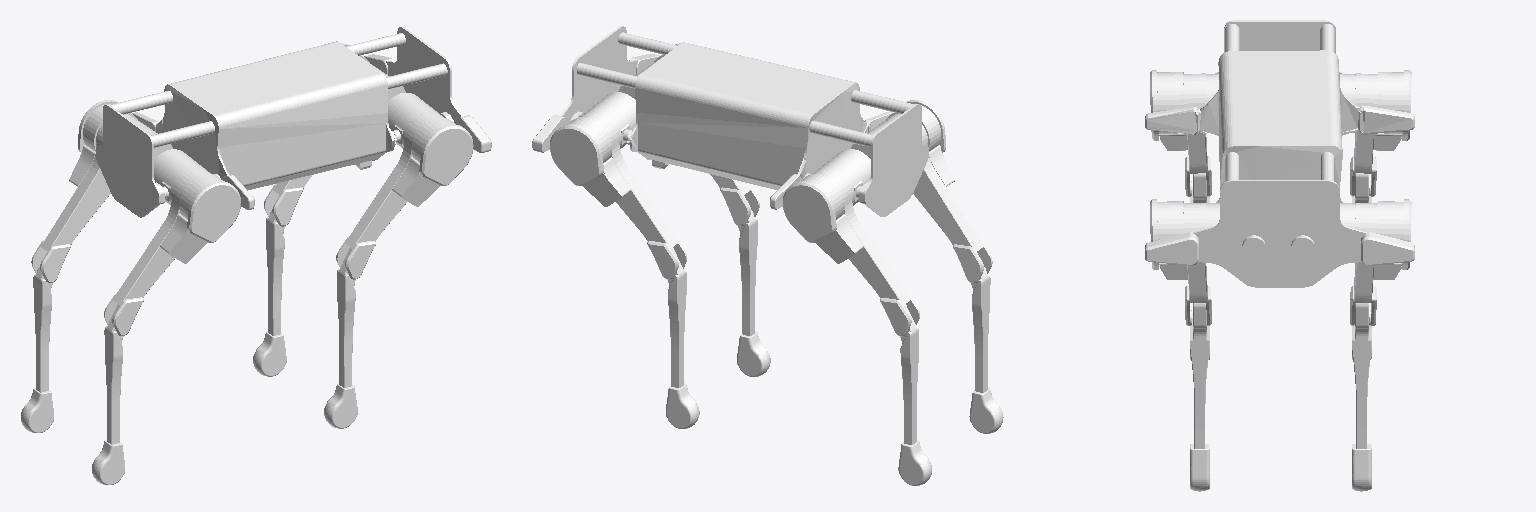
robot.urdf — plane:
<?xml version="1.0" ?>
<robot name="plane">
  <link name="chassis">
  <contact>
      <lateral_friction value="1"/>
  </contact>
    <inertial>
      <origin rpy="0 0 0" xyz="0 0 0"/>
       <mass value="13.715"/>
       <inertia ixx="0.22" ixy="0" ixz="0" iyy="0.431" iyz="0" izz="0.565"/>
    </inertial>
    <visual>
      <origin rpy="0 0 0" xyz=" 0  0 0"/>
      <geometry>
        <mesh filename="chassis_zup.obj" scale="1 1 1"/>
      </geometry>
       <material name="white">
        <color rgba="1 1 1 1"/>
      </material>
    </visual>
    <collision>
      <origin rpy="0 0 0" xyz="0 0 0"/>
      <geometry>
        <mesh filename="chassis_vhacd_mod_zup.obj" scale="1 1 1"/>
      </geometry>
    </collision>
  </link>
  <link name="FR_hip_motor">
    <contact>
      <lateral_friction value="1"/>
    </contact>
    <inertial>
       <origin rpy="0 0 0" xyz="0.02 0 0"/>
       <mass value="1.095"/>
       <inertia ixx="0.002" ixy="0" ixz="0" iyy=".002" iyz="0" izz=".001"/>
    </inertial>

    <visual>
      <origin rpy="0 0 0" xyz="0 0 0"/>
      <geometry>
        <mesh filename="hip_motor_mirror.obj" scale="1 1 1"/>
      </geometry>
       <material name="white"/>
    </visual>

    <collision>
      <origin rpy="0 0 0" xyz="0 0 0"/>
      <geometry>
        <mesh filename="hip_motor_mirror.stl" scale="1 1 1"/>
      </geometry>
    </collision>
    </link>

    <joint name="FR_hip_motor_2_chassis_joint" type="continuous">
    <axis xyz="0 0 -1"/>
    <parent link="chassis"/>
    <child link="FR_hip_motor"/>
    <origin rpy="1.57079 0 1.57079" xyz="0.199095 -0.0817145 -0.03"/>
    <limit effort="100" velocity="100"/>
    <joint_properties damping=".0" friction=".0"/>
  </joint>

     <link name="FR_upper_leg">
  <contact>
      <lateral_friction value="1"/>
  </contact>
    <inertial>
     <origin rpy="0 0 0" xyz="0 -0.04 -0.04"/>
       <mass value="1.527"/>
       <inertia ixx="0.015" ixy="0" ixz="0" iyy="0.007" iyz="0" izz="0.01"/>
    </inertial>
       <visual>
      <origin rpy="0 0 0" xyz="0 0 0"/>
      <geometry>
        <mesh filename="upper_leg_mirror.obj" scale="1 1 1"/>
      </geometry>
       <material name="white"/>
    </visual>

    <collision>
      <origin rpy="0 0 0" xyz="0 0 0"/>
      <geometry>
        <mesh filename="upper_leg_right_vhacd.obj" scale="1 1 1"/>
      </geometry>
    </collision>

    </link>

    <joint name="FR_upper_leg_2_hip_motor_joint" type="continuous">
    <axis xyz="1 0 0"/>
    <parent link="FR_hip_motor"/>
    <child link="FR_upper_leg"/>
    <origin rpy="0 0 0" xyz="-0.053565 0 0"/>
    <limit effort="100" velocity="100"/>
    <joint_properties damping=".0" friction=".0"/>
  </joint>

     <link name="FR_lower_leg">
  <contact>
      <lateral_friction value="1"/>
  </contact>
    <inertial>
      <origin rpy="0 0 0" xyz="0 -0.16 -0.02"/>
       <mass value="0.241"/>
       <inertia ixx="0.002" ixy="0" ixz="0" iyy="0.002" iyz="0" izz="0.002"/>
    </inertial>
       <visual>
      <origin rpy="0 1.57079 0" xyz="0 0.0 0"/>
      <geometry>
        <mesh filename="lower_leg3.obj" scale="1 1 1"/>
      </geometry>
       <material name="white"/>
    </visual>

    <collision>
      <origin rpy="0 1.57079 0" xyz="0 0.0 0"/>
      <geometry>
        <mesh filename="lower_leg_3.stl" scale="1 1 1"/>
      </geometry>
    </collision>
    </link>
    <joint name="FR_lower_leg_2_upper_leg_joint" type="continuous">
    <axis xyz="1 0 0"/>
    <parent link="FR_upper_leg"/>
    <child link="FR_lower_leg"/>

    <origin rpy="0 0 0" xyz="0.02069  -0.20833  -0.1422"/>
    <limit effort="100" velocity="100"/>
    <joint_properties damping=".0" friction=".0"/>
  </joint>


   <link name="FL_hip_motor">
  <contact>
      <lateral_friction value="1"/>
  </contact>
    <inertial>
     <origin rpy="0 0 0" xyz="-.02 0 0"/>
       <mass value="1.095"/>
       <inertia ixx="0.002" ixy="0" ixz="0" iyy="0.002" iyz="0" izz="0.001"/>
    </inertial>
    <visual>
      <origin rpy="0 0 0" xyz="0 0 0"/>
      <geometry>
        <mesh filename="hip_motor.obj" scale="1 1 1"/>
      </geometry>
       <material name="white">
      </material>
    </visual>

    <collision>
      <origin rpy="0 0 0" xyz="0 0 0"/>
      <geometry>
        <mesh filename="hip_motor.stl" scale="1 1 1"/>
      </geometry>
    </collision>

      </link>

   <joint name="FL_hip_motor_2_chassis_joint" type="continuous">
    <axis xyz="0 0 1"/>
    <parent link="chassis"/>
    <child link="FL_hip_motor"/>
    <origin rpy="1.57079 0 1.57079" xyz="0.199095 0.0817145 -0.03"/>

    <limit effort="100" velocity="100"/>
    <joint_properties damping=".0" friction=".0"/>
  </joint>

  <link name="FL_upper_leg">
  <contact>
      <lateral_friction value="1"/>
  </contact>
    <inertial>
       <origin rpy="0 0 0" xyz="0 -0.04 -0.04"/>
       <mass value="1.527"/>
       <inertia ixx="0.016" ixy="0" ixz="0" iyy="0.007" iyz="0" izz="0.011"/>
    </inertial>
     <visual>
      <origin rpy="0 0 0" xyz="0 0 0"/>
      <geometry>

        <mesh filename="upper_leg_left.obj" scale="1 1 1"/>
      </geometry>
       <material name="white">
      </material>
    </visual>

     <collision>
      <origin rpy="0 0 0" xyz="0 0 0"/>
      <geometry>
        <mesh filename="upper_leg_left_vhacd.obj" scale="1 1 1"/>
      </geometry>
    </collision>

    </link>


  <joint name="FL_upper_leg_2_hip_motor_joint" type="continuous">
    <axis xyz="1 0 0"/>
    <parent link="FL_hip_motor"/>
    <child link="FL_upper_leg"/>
    <origin rpy="0 0 0" xyz="0.055855  0 0"/>
    <limit effort="100" velocity="100"/>
    <joint_properties damping=".0" friction=".0"/>
  </joint>


  <link name="FL_lower_leg">
  <contact>
      <lateral_friction value="1"/>
  </contact>
    <inertial>
      <origin rpy="0 0 0" xyz="0 -0.16 -0.02"/>
       <mass value="0.241"/>
       <inertia ixx="0.002" ixy="0" ixz="0" iyy="0.002" iyz="0" izz="0.002"/>
    </inertial>
   <visual>
      <origin rpy="0 1.57079 0" xyz="0 0 0"/>
      <geometry>
        <mesh filename="lower_leg3.obj" scale="1 1 1"/>
      </geometry>
       <material name="white">
       </material>
    </visual>

     <collision>
      <origin rpy="0 1.57079 0" xyz="0 0 0"/>
      <geometry>
        <mesh filename="lower_leg_3.stl" scale="1 1 1"/>
      </geometry>
    </collision>

    </link>

  <joint name="FL_lower_leg_2_upper_leg_joint" type="continuous">
    <axis xyz="1 0 0"/>
    <parent link="FL_upper_leg"/>
    <child link="FL_lower_leg"/>
    <origin rpy="0 0 0" xyz="-0.02069  -0.20833  -0.1422"/>
    <limit effort="100" velocity="100"/>
    <joint_properties damping=".0" friction=".0"/>
  </joint>






   <link name="RR_hip_motor">
  <contact>
      <lateral_friction value="1"/>
  </contact>
    <inertial>
      <origin rpy="0 0 0" xyz="0.02 0 0"/>
       <mass value="1.095"/>
       <inertia ixx="0.002" ixy="0" ixz="0" iyy="0.002" iyz="0" izz="0.001"/>
    </inertial>

    <visual>
      <origin rpy="0 0 0" xyz="0 0 0"/>
      <geometry>
        <mesh filename="hip_motor_mirror.obj" scale="1 1 1"/>
      </geometry>
       <material name="white"/>
    </visual>

     <collision>
      <origin rpy="0 0 0" xyz="0 0 0"/>
      <geometry>
        <mesh filename="hip_motor_mirror.stl" scale="1 1 1"/>
      </geometry>
    </collision>

    </link>

    <joint name="RR_hip_motor_2_chassis_joint" type="continuous">
    <axis xyz="0 0 -1"/>
    <parent link="chassis"/>
    <child link="RR_hip_motor"/>
    <origin rpy="1.57079 0 1.57079" xyz="-0.238195 -0.0817145 -0.03"/>

    <limit effort="100" velocity="100"/>
    <joint_properties damping=".0" friction=".0"/>
  </joint>

     <link name="RR_upper_leg">
  <contact>
      <lateral_friction value="1"/>
  </contact>
    <inertial>
     <origin rpy="0 0 0" xyz="0 -0.04 -0.04"/>
       <mass value="1.527"/>
       <inertia ixx="0.016" ixy="0" ixz="0" iyy="0.007" iyz="0" izz="0.011"/>
    </inertial>
       <visual>
      <origin rpy="0 0 0" xyz="0 0 0"/>
      <geometry>
        <mesh filename="upper_leg_mirror2.obj" scale="1 1 1"/>
      </geometry>
       <material name="white"/>
    </visual>

    <collision>
      <origin rpy="0 0 0" xyz="0 0 0"/>
      <geometry>
        <mesh filename="upper_leg_right_vhacd.obj" scale="1 1 1"/>
      </geometry>
    </collision>

    </link>

    <joint name="RR_upper_leg_2_hip_motor_joint" type="continuous">
    <axis xyz="1 0 0"/>
    <parent link="RR_hip_motor"/>
    <child link="RR_upper_leg"/>
    <origin rpy="0 0 0" xyz="-0.053565 0 0"/>
    <limit effort="100" velocity="100"/>
    <joint_properties damping=".0" friction=".0"/>
  </joint>

     <link name="RR_lower_leg">
  <contact>
      <lateral_friction value="1"/>
  </contact>
    <inertial>
      <origin rpy="0 0 0" xyz="0 -0.16 -0.02"/>
       <mass value="0.241"/>
       <inertia ixx="0.002" ixy="0" ixz="0" iyy="0.002" iyz="0" izz="0.002"/>
    </inertial>
       <visual>
      <origin rpy="0 1.57079 0" xyz="0 0 0"/>
      <geometry>
        <mesh filename="lower_leg3.obj" scale="1 1 1"/>
      </geometry>
       <material name="white"/>
    </visual>

     <collision>
      <origin rpy="0 1.57079 0" xyz="0 0 0"/>
      <geometry>
        <mesh filename="lower_leg_3.stl" scale="1 1 1"/>
      </geometry>
    </collision>

    </link>

    <joint name="RR_lower_leg_2_upper_leg_joint" type="continuous">
    <axis xyz="1 0 0"/>
    <parent link="RR_upper_leg"/>
    <child link="RR_lower_leg"/>
    <origin rpy="0 0 0" xyz="0.02069  -0.20833  -0.1422"/>
    <limit effort="100" velocity="100"/>
    <joint_properties damping=".0" friction=".0"/>
  </joint>


   <link name="RL_hip_motor">
  <contact>
      <lateral_friction value="1"/>
  </contact>
    <inertial>
      <origin rpy="0 0 0" xyz="-.02 0 0"/>
       <mass value="1.095"/>
       <inertia ixx="0.002" ixy="0" ixz="0" iyy="0.002" iyz="0" izz="0.001"/>
    </inertial>
    <visual>
      <origin rpy="0 0 0" xyz="0 0 0"/>
      <geometry>
        <mesh filename="hip_motor.obj" scale="1 1 1"/>
      </geometry>
       <material name="white"/>
    </visual>

    <collision>
      <origin rpy="0 0 0" xyz="0 0 0"/>
      <geometry>
        <mesh filename="hip_motor.stl" scale="1 1 1"/>
      </geometry>
    </collision>

      </link>

   <joint name="RL_hip_motor_2_chassis_joint" type="continuous">
    <axis xyz="0 0 1"/>
    <parent link="chassis"/>
    <child link="RL_hip_motor"/>

    <origin rpy="1.57079 0 1.57079" xyz="-0.238195 0.0817145 -0.03"/>
    <limit effort="100" velocity="100"/>
    <joint_properties damping=".0" friction=".0"/>
  </joint>

  <link name="RL_upper_leg">
  <contact>
      <lateral_friction value="1"/>
  </contact>
    <inertial>
      <origin rpy="0 0 0" xyz="0 -0.04 -0.04"/>
       <mass value="1.527"/>
       <inertia ixx="0.016" ixy="0" ixz="0" iyy="0.007" iyz="0" izz="0.011"/>
    </inertial>
     <visual>
      <origin rpy="0 0 0" xyz="0 0 0"/>
      <geometry>
        <mesh filename="upper_leg_left2.obj" scale="1 1 1"/>
      </geometry>
       <material name="white"/>
    </visual>

    <collision>
      <origin rpy="0 0 0" xyz="0 0 0"/>
      <geometry>
        <mesh filename="upper_leg_left_vhacd.obj" scale="1 1 1"/>
      </geometry>
    </collision>

    </link>


  <joint name="RL_upper_leg_2_hip_motor_joint" type="continuous">
    <axis xyz="1 0 0"/>
    <parent link="RL_hip_motor"/>
    <child link="RL_upper_leg"/>
    <origin rpy="0 0 0" xyz="0.055855  0 0"/>
    <limit effort="100" velocity="100"/>
    <joint_properties damping=".0" friction=".0"/>
  </joint>


  <link name="RL_lower_leg">
  <contact>
      <lateral_friction value="1"/>
  </contact>
    <inertial>
      <origin rpy="0 0 0" xyz="0 -0.16 -0.02"/>
       <mass value="0.241"/>
       <inertia ixx="0.002" ixy="0" ixz="0" iyy="0.002" iyz="0" izz="0.002"/>
    </inertial>
   <visual>
      <origin rpy="0 1.57079 0" xyz="0 0 0"/>
      <geometry>
        <mesh filename="lower_leg3.obj" scale="1 1 1"/>
      </geometry>
       <material name="white"/>
    </visual>

    <collision>
      <origin rpy="0 1.57079 0" xyz="0 0 0"/>
      <geometry>
        <mesh filename="lower_leg_3.stl" scale="1 1 1"/>
      </geometry>
    </collision>

    </link>

  <joint name="RL_lower_leg_2_upper_leg_joint" type="continuous">
    <axis xyz="1 0 0"/>
    <parent link="RL_upper_leg"/>
    <child link="RL_lower_leg"/>
    <origin rpy="0 0 0" xyz="-0.02069  -0.20833  -0.1422"/>
    <limit effort="100" velocity="100"/>
    <joint_properties damping=".0" friction=".0"/>
  </joint>

   <link name="toeRL">
    <contact>
      <friction_anchor/>
      <stiffness value="30000.0"/>
      <damping value="1000.0"/>
      <spinning_friction value="0.1"/>
      <lateral_friction value="1.0"/>
    </contact>
    <visual>
      <origin rpy="0 0 0" xyz="0 0 0"/>
      <geometry>
        <sphere radius="0.0"/>
      </geometry>
      <material name="white"/>
    </visual>
    <collision>
      <origin rpy="0 0 0" xyz="0 0 0"/>
      <geometry>
        <sphere radius="0.03"/>
      </geometry>
    </collision>
    <inertial>
      <mass value="0.1"/>
      <inertia ixx="0.000025" ixy="0" ixz="0" iyy="0.000025" iyz="0" izz="0.000025"/>
    </inertial>
  </link>
  <joint name="jtoeRL" type="fixed">
    <parent link="RL_lower_leg"/>
    <child link="toeRL"/>
    <origin xyz="0 -0.25 -0.022"/>
    <dynamics damping="0.0" friction="0.0"/>
  </joint>

  <link name="toeRR">
    <contact>
      <friction_anchor/>
      <stiffness value="30000.0"/>
      <damping value="1000.0"/>
      <spinning_friction value="0.1"/>
      <lateral_friction value="1.0"/>
    </contact>
    <visual>
      <origin rpy="0 0 0" xyz="0 0 0"/>
      <geometry>
        <sphere radius="0.0"/>
      </geometry>
      <material name="white"/>
    </visual>
    <collision>
      <origin rpy="0 0 0" xyz="0 0 0"/>
      <geometry>
        <sphere radius="0.03"/>
      </geometry>
    </collision>
    <inertial>
      <mass value="0.1"/>
      <inertia ixx="0.000025" ixy="0" ixz="0" iyy="0.000025" iyz="0" izz="0.000025"/>
    </inertial>
  </link>
  <joint name="jtoeRR" type="fixed">
    <parent link="RR_lower_leg"/>
    <child link="toeRR"/>
    <origin xyz="0 -0.25 -0.022"/>
    <dynamics damping="0.0" friction="0.0"/>
  </joint>

  <link name="toeFL">
    <contact>
      <friction_anchor/>
      <stiffness value="30000.0"/>
      <damping value="1000.0"/>
      <spinning_friction value="0.1"/>
      <lateral_friction value="1.0"/>
    </contact>
    <visual>
      <origin rpy="0 0 0" xyz="0 0 0"/>
      <geometry>
        <sphere radius="0.0"/>
      </geometry>
      <material name="white"/>
    </visual>
    <collision>
      <origin rpy="0 0 0" xyz="0 0 0"/>
      <geometry>
        <sphere radius="0.03"/>
      </geometry>
    </collision>
    <inertial>
      <mass value="0.1"/>
      <inertia ixx="0.000025" ixy="0" ixz="0" iyy="0.000025" iyz="0" izz="0.000025"/>
    </inertial>
  </link>
  <joint name="jtoeFL" type="fixed">
    <parent link="FL_lower_leg"/>
    <child link="toeFL"/>
    <origin xyz="0 -0.25 -0.022"/>
    <dynamics damping="0.0" friction="0.0"/>
  </joint>

  <link name="toeFR">
    <contact>
      <friction_anchor/>
      <stiffness value="30000.0"/>
      <damping value="1000.0"/>
      <spinning_friction value="0.1"/>
      <lateral_friction value="1.0"/>
    </contact>
    <visual>
      <origin rpy="0 0 0" xyz="0 0 0"/>
      <geometry>
        <sphere radius="0.0"/>
      </geometry>
      <material name="white"/>
    </visual>
    <collision>
      <origin rpy="0 0 0" xyz="0 0 0"/>
      <geometry>
        <sphere radius="0.03"/>
      </geometry>
    </collision>
    <inertial>
      <mass value="0.1"/>
      <inertia ixx="0.000025" ixy="0" ixz="0" iyy="0.000025" iyz="0" izz="0.000025"/>
    </inertial>
  </link>
  <joint name="jtoeFR" type="fixed">
    <parent link="FR_lower_leg"/>
    <child link="toeFR"/>
    <origin xyz="0 -0.25 -0.022"/>
    <dynamics damping="0.0" friction="0.0"/>
  </joint>
</robot>


--- Facts derived from the render (not from the file) ---
The picture shows the robot from 3 angles, left to right: view 1: azimuth 30°, elevation 25°; view 2: azimuth 150°, elevation 25°; view 3: azimuth 270°, elevation 25°; orthographic projection.
Model plane with 17 links and 16 joints (12 continuous, 4 fixed), rooted at chassis, posed every joint at zero.
Visible links, largest first — view 1: chassis, FR_upper_leg, RR_upper_leg, RL_upper_leg, FR_lower_leg, RR_lower_leg, FL_lower_leg, RL_lower_leg, FL_upper_leg, RR_hip_motor, FR_hip_motor; view 2: chassis, FL_upper_leg, RL_upper_leg, RR_upper_leg, FL_lower_leg, RL_lower_leg, FR_lower_leg, RR_lower_leg, FR_upper_leg, RL_hip_motor, FL_hip_motor; view 3: chassis, RL_upper_leg, RR_upper_leg, FL_upper_leg, FR_upper_leg, FR_lower_leg, FL_lower_leg.
Boxes of the visible links, x1,y1,x2,y2 form: chassis: (96, 27, 491, 217); FR_upper_leg: (336, 111, 473, 279); RR_upper_leg: (104, 168, 240, 335); RL_upper_leg: (31, 100, 139, 282); FR_lower_leg: (324, 247, 357, 428); RR_lower_leg: (92, 304, 124, 484); FL_lower_leg: (253, 195, 286, 376); RL_lower_leg: (21, 267, 53, 432); FL_upper_leg: (264, 43, 371, 226); RR_hip_motor: (154, 149, 205, 205); FR_hip_motor: (388, 93, 437, 148); chassis: (532, 26, 928, 216); FL_upper_leg: (550, 111, 686, 279); RL_upper_leg: (783, 168, 919, 336); RR_upper_leg: (885, 100, 992, 283); FL_lower_leg: (666, 248, 699, 428); RL_lower_leg: (898, 304, 931, 485); FR_lower_leg: (737, 210, 770, 376); RR_lower_leg: (969, 253, 1003, 433); FR_upper_leg: (653, 43, 759, 226); RL_hip_motor: (818, 149, 870, 205); FL_hip_motor: (586, 92, 635, 148); chassis: (1145, 20, 1414, 287); RL_upper_leg: (1350, 70, 1411, 196); RR_upper_leg: (1150, 70, 1211, 196); FL_upper_leg: (1350, 199, 1411, 325); FR_upper_leg: (1150, 199, 1211, 325); FR_lower_leg: (1190, 303, 1209, 491); FL_lower_leg: (1352, 303, 1371, 491).
Bounding box of the posed robot: 0.7047 × 0.386 × 0.5921 m (x, y, z).
13 mesh visuals loaded from 8 distinct referenced files (8 OBJ).